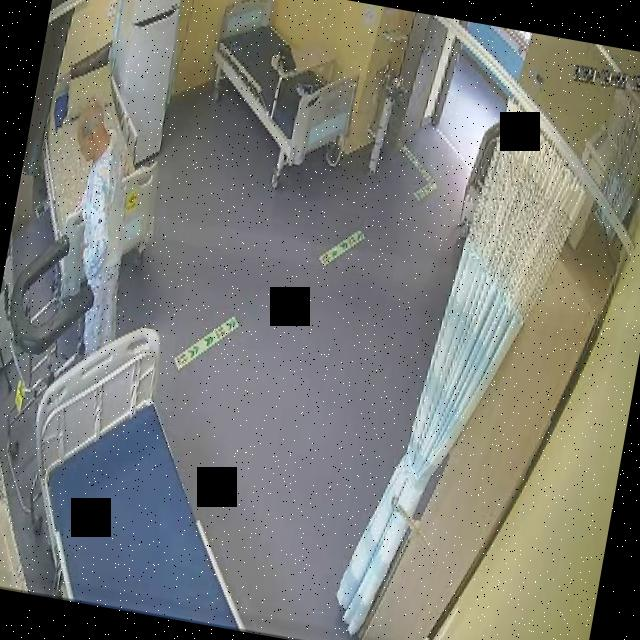bed: (5, 312, 292, 629), (18, 46, 184, 294), (194, 0, 371, 176)
patient: (39, 98, 152, 340)
stand: (35, 97, 150, 350)
walker: (0, 223, 106, 476)
